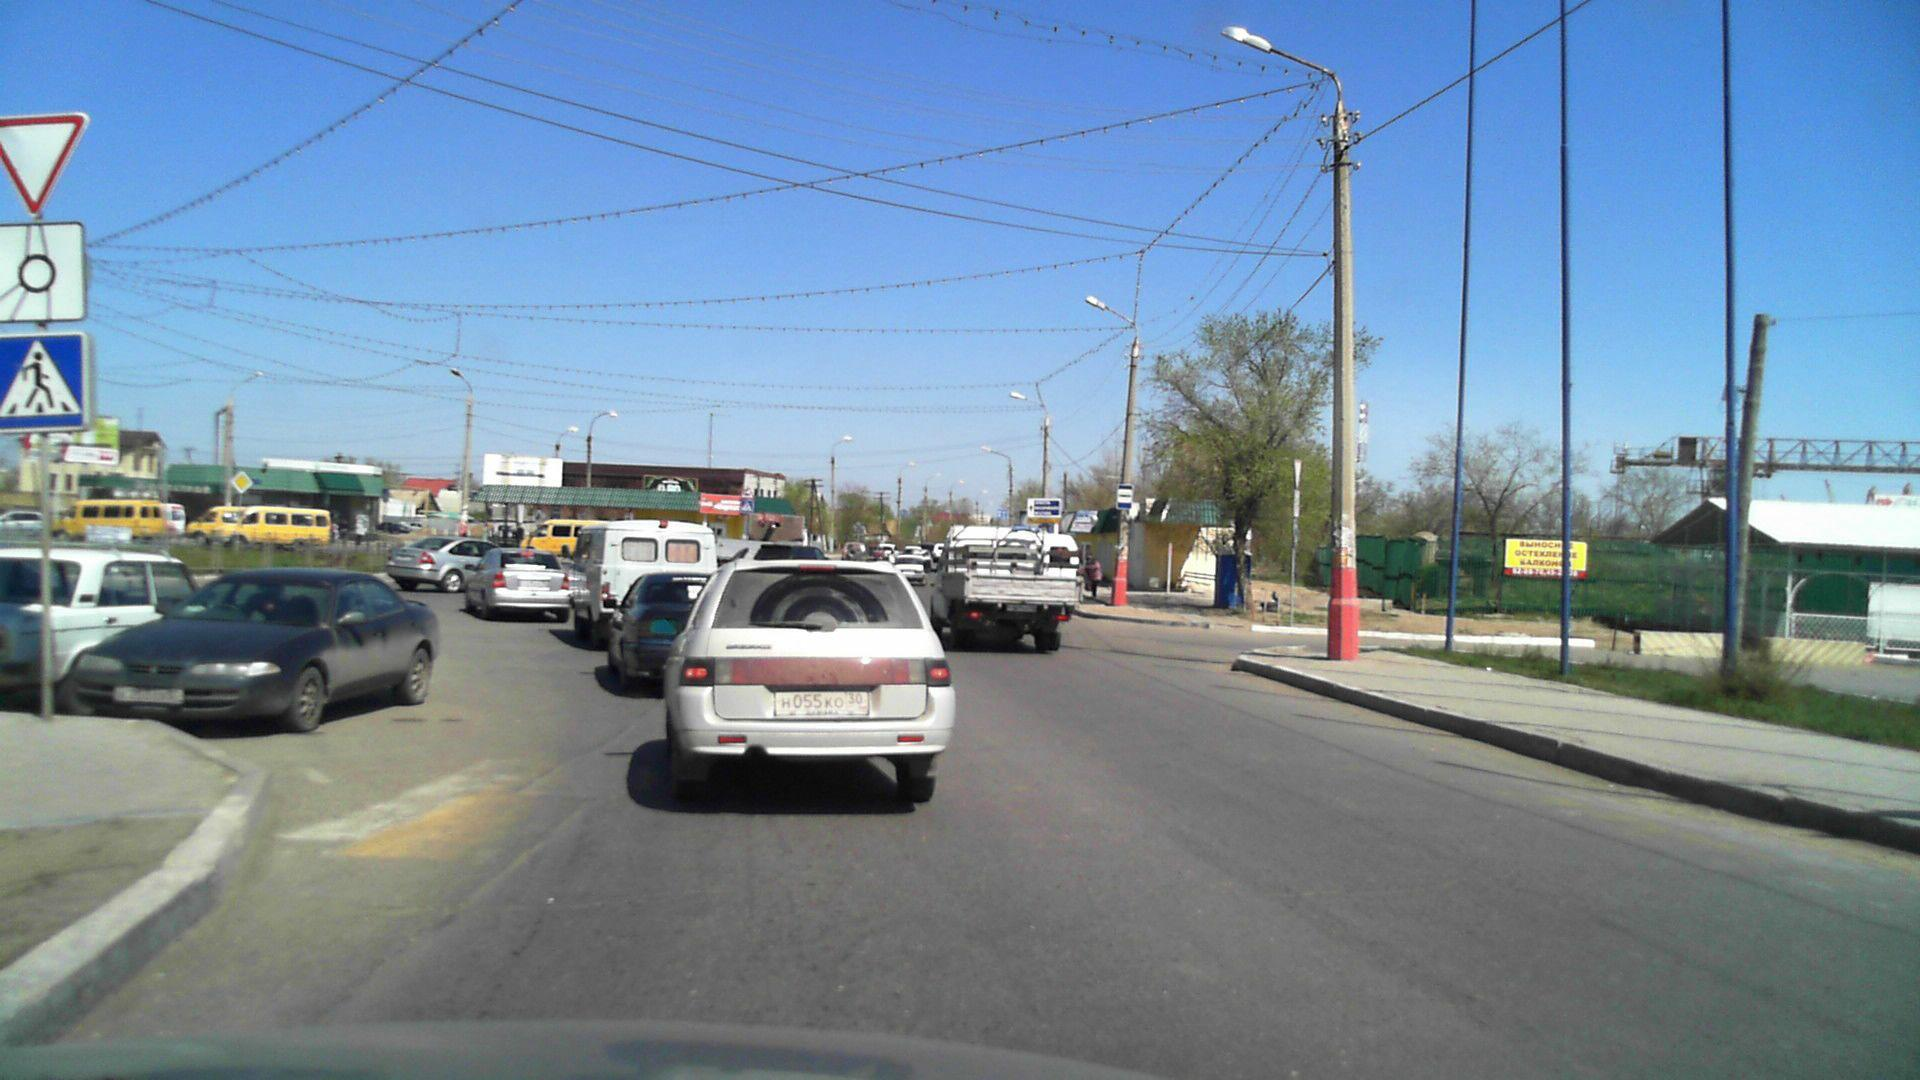2_4: (0, 115, 95, 211)
5_16: (1114, 481, 1134, 513)
5_19_2: (0, 334, 96, 434)
6_10_1: (1023, 497, 1063, 518)
8_13: (0, 218, 94, 324)
